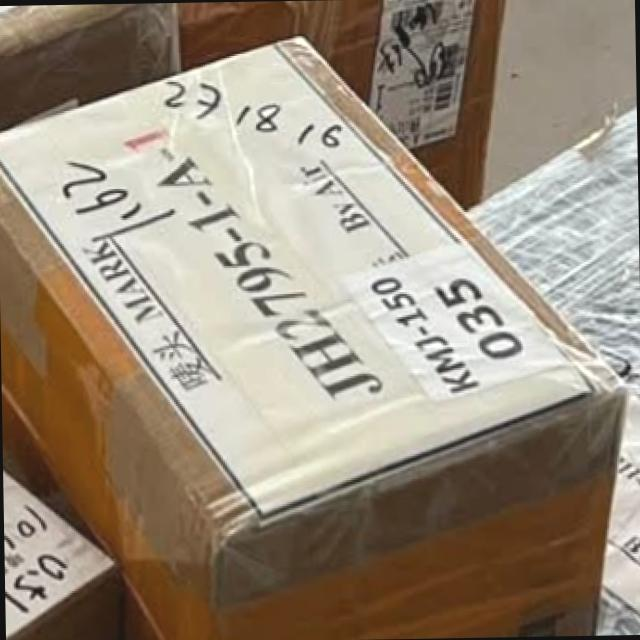carton_box: (0, 25, 629, 640)
export_mark_label: (0, 42, 595, 535)
